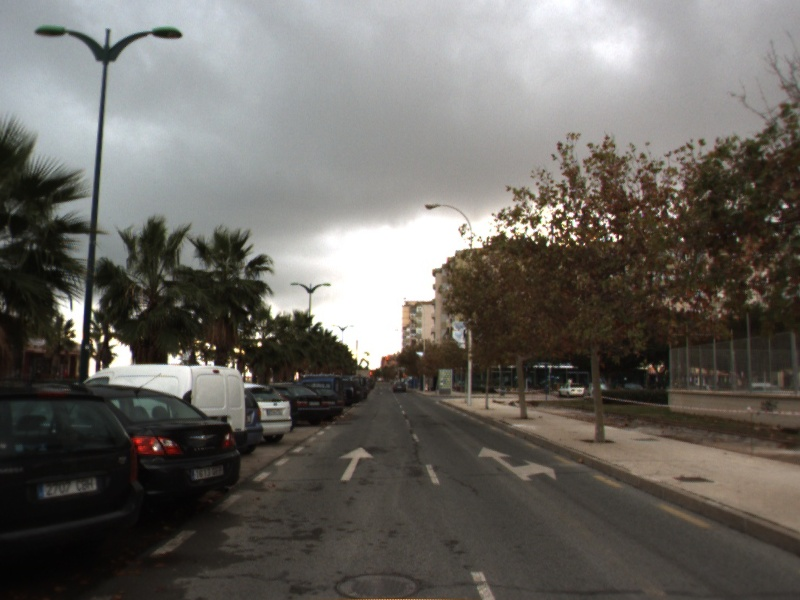STRAIGHT: (337, 445, 376, 482)
STRAIGHT_RIGHT: (477, 444, 559, 482)
